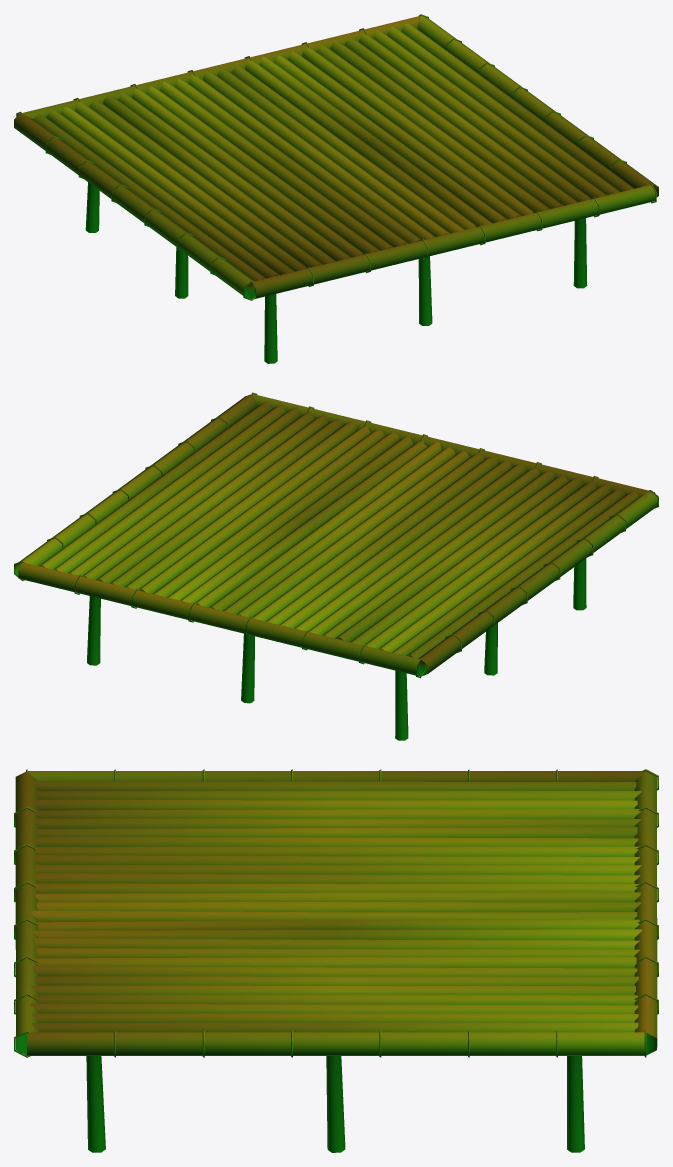
Rendered from reed_platform_6m.glb.
3 views of the same model, one above another, from view 1: azimuth 30°, elevation 25°; view 2: azimuth 150°, elevation 25°; view 3: azimuth 270°, elevation 25° (orthographic). The views are drawn at different scales.
Visible parts, largest first — view 1: reed_platform_6m; view 2: reed_platform_6m; view 3: reed_platform_6m.
Boxes of the visible parts, x1=… form: reed_platform_6m: x1=14, y1=14, x2=658, y2=363; reed_platform_6m: x1=14, y1=392, x2=658, y2=740; reed_platform_6m: x1=14, y1=769, x2=658, y2=1152.
Size of what is drawn, in the model's own units: 6.46 by 1.64 by 6.46.
